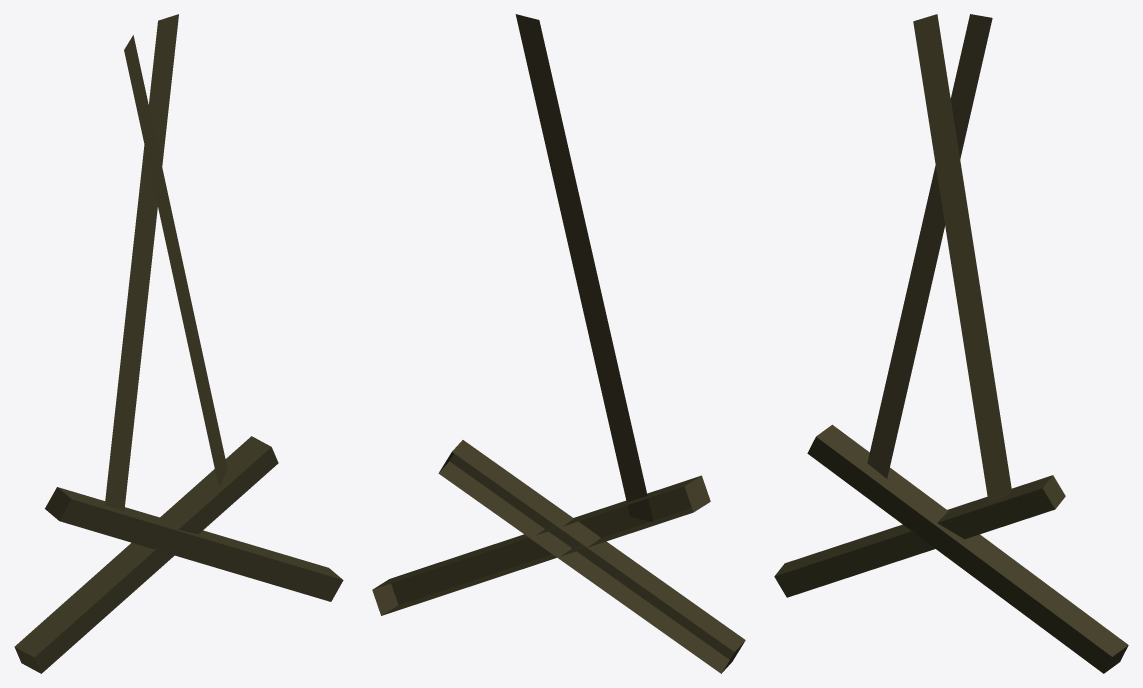
File: OC_WEAPON_ARMORHOLDER.OBJ
3 views of the same model, side by side, from view 1: azimuth 30°, elevation 25°; view 2: azimuth 150°, elevation 25°; view 3: azimuth 330°, elevation 25° (orthographic). The views are drawn at different scales.
Parts seen in each view (by area): view 1: OC_WEAPON_ARMORHOLDER; view 2: OC_WEAPON_ARMORHOLDER; view 3: OC_WEAPON_ARMORHOLDER.
Boxes of the visible parts, x1,y1,x2,y2 form: OC_WEAPON_ARMORHOLDER: [14, 14, 343, 673]; OC_WEAPON_ARMORHOLDER: [372, 14, 745, 673]; OC_WEAPON_ARMORHOLDER: [774, 14, 1128, 673].
Size of the model in its own units: 0.9891 by 1.74 by 0.1891.
